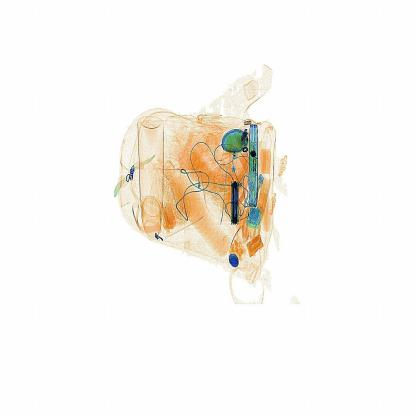scissors: (222, 178, 248, 230)
